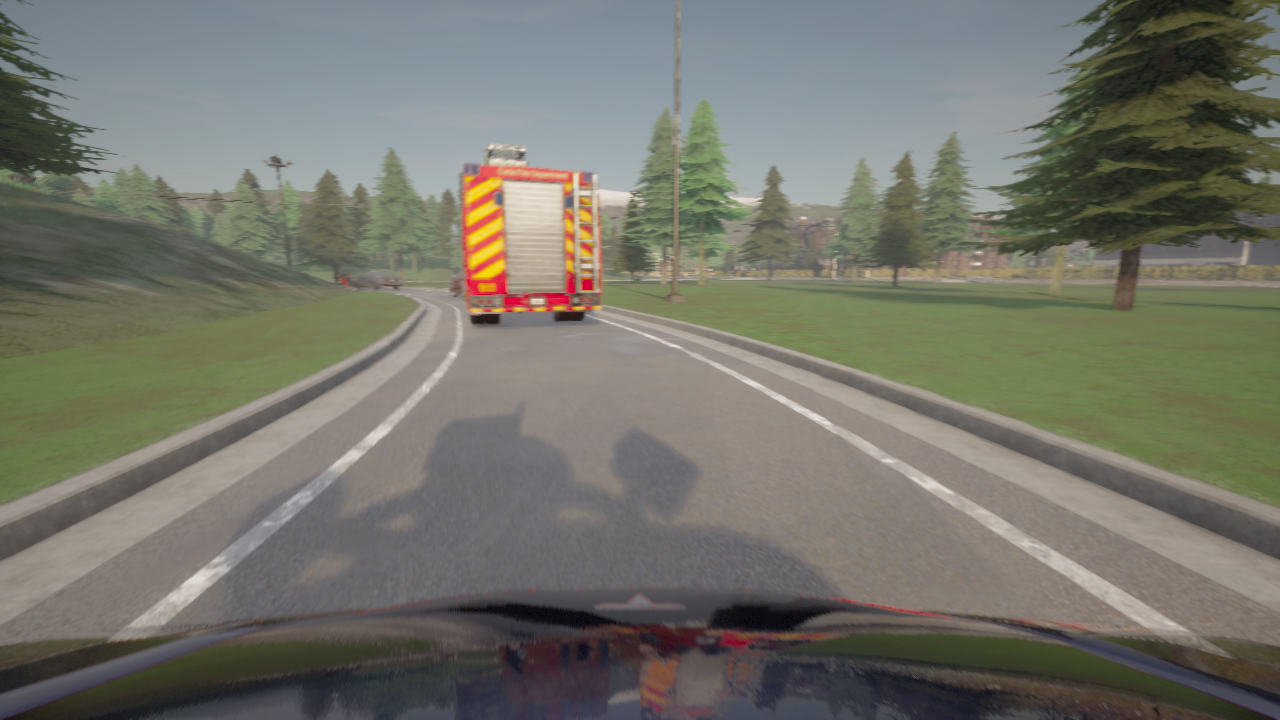cyclist: (0, 588, 1279, 719), (450, 142, 601, 324), (350, 271, 403, 290), (450, 270, 462, 297), (340, 274, 356, 286)
